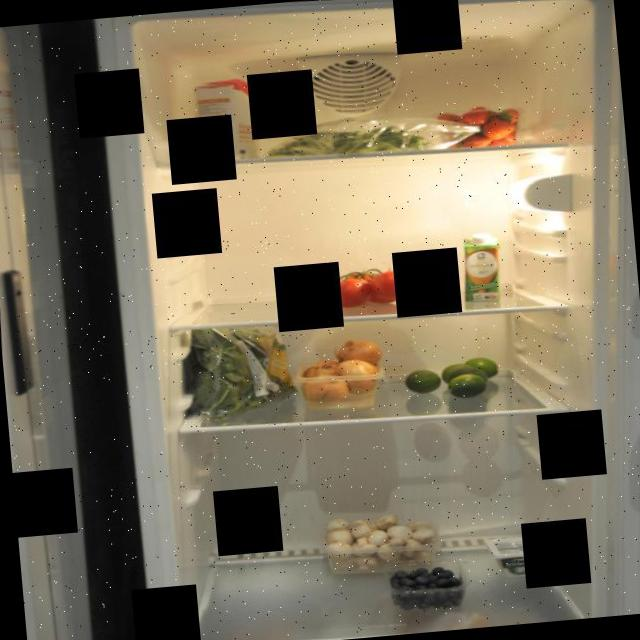Cebolla: (291, 333, 390, 412)
Champiñones: (316, 502, 451, 582)
Tomate: (298, 260, 414, 315)
